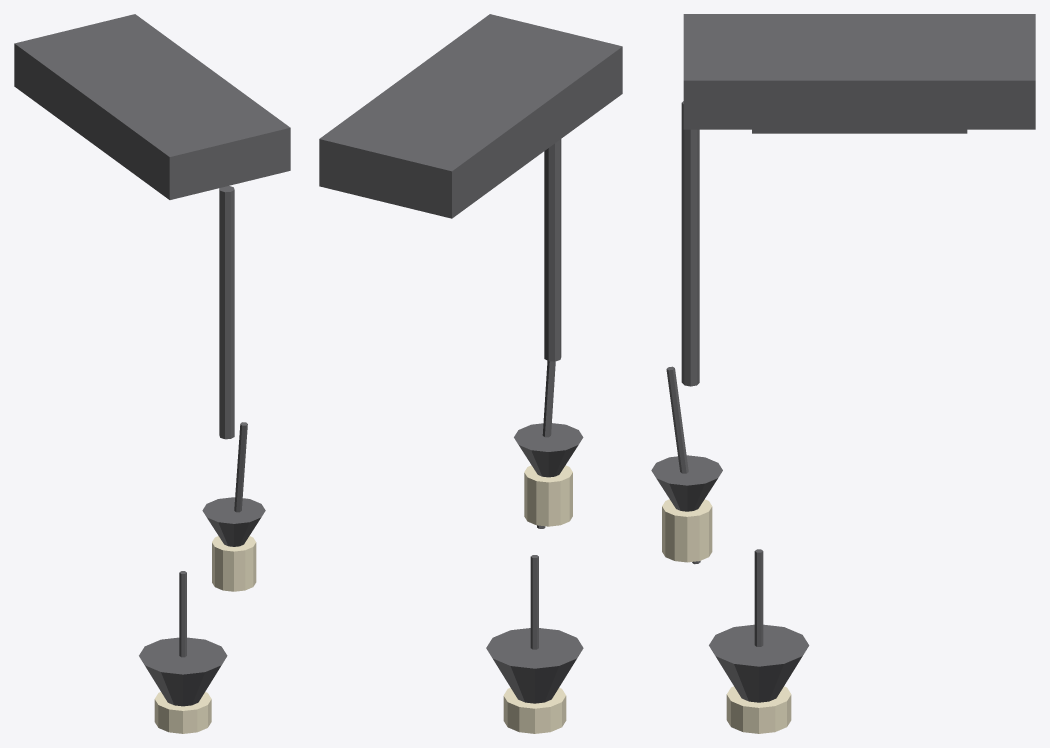
The model's file is dm_stationlamp.glb.
3 views of the same model, side by side, from view 1: azimuth 30°, elevation 25°; view 2: azimuth 150°, elevation 25°; view 3: azimuth 270°, elevation 25° (orthographic). The views are drawn at different scales.
Visible parts, largest first — view 1: dm_stationlamp; view 2: dm_stationlamp; view 3: dm_stationlamp.
Part boxes in pixels (x1=…): dm_stationlamp: x1=14, y1=14, x2=290, y2=733; dm_stationlamp: x1=319, y1=14, x2=622, y2=733; dm_stationlamp: x1=651, y1=14, x2=1035, y2=733.
Bounding box in the file's own units: 0.44 × 2.09 × 1.07.
